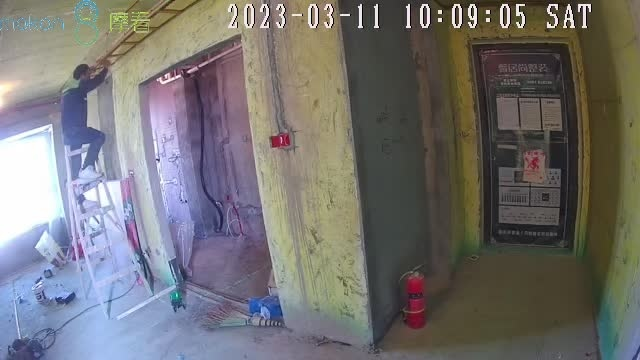people: (61, 65, 109, 209)
window: (1, 127, 61, 248)
